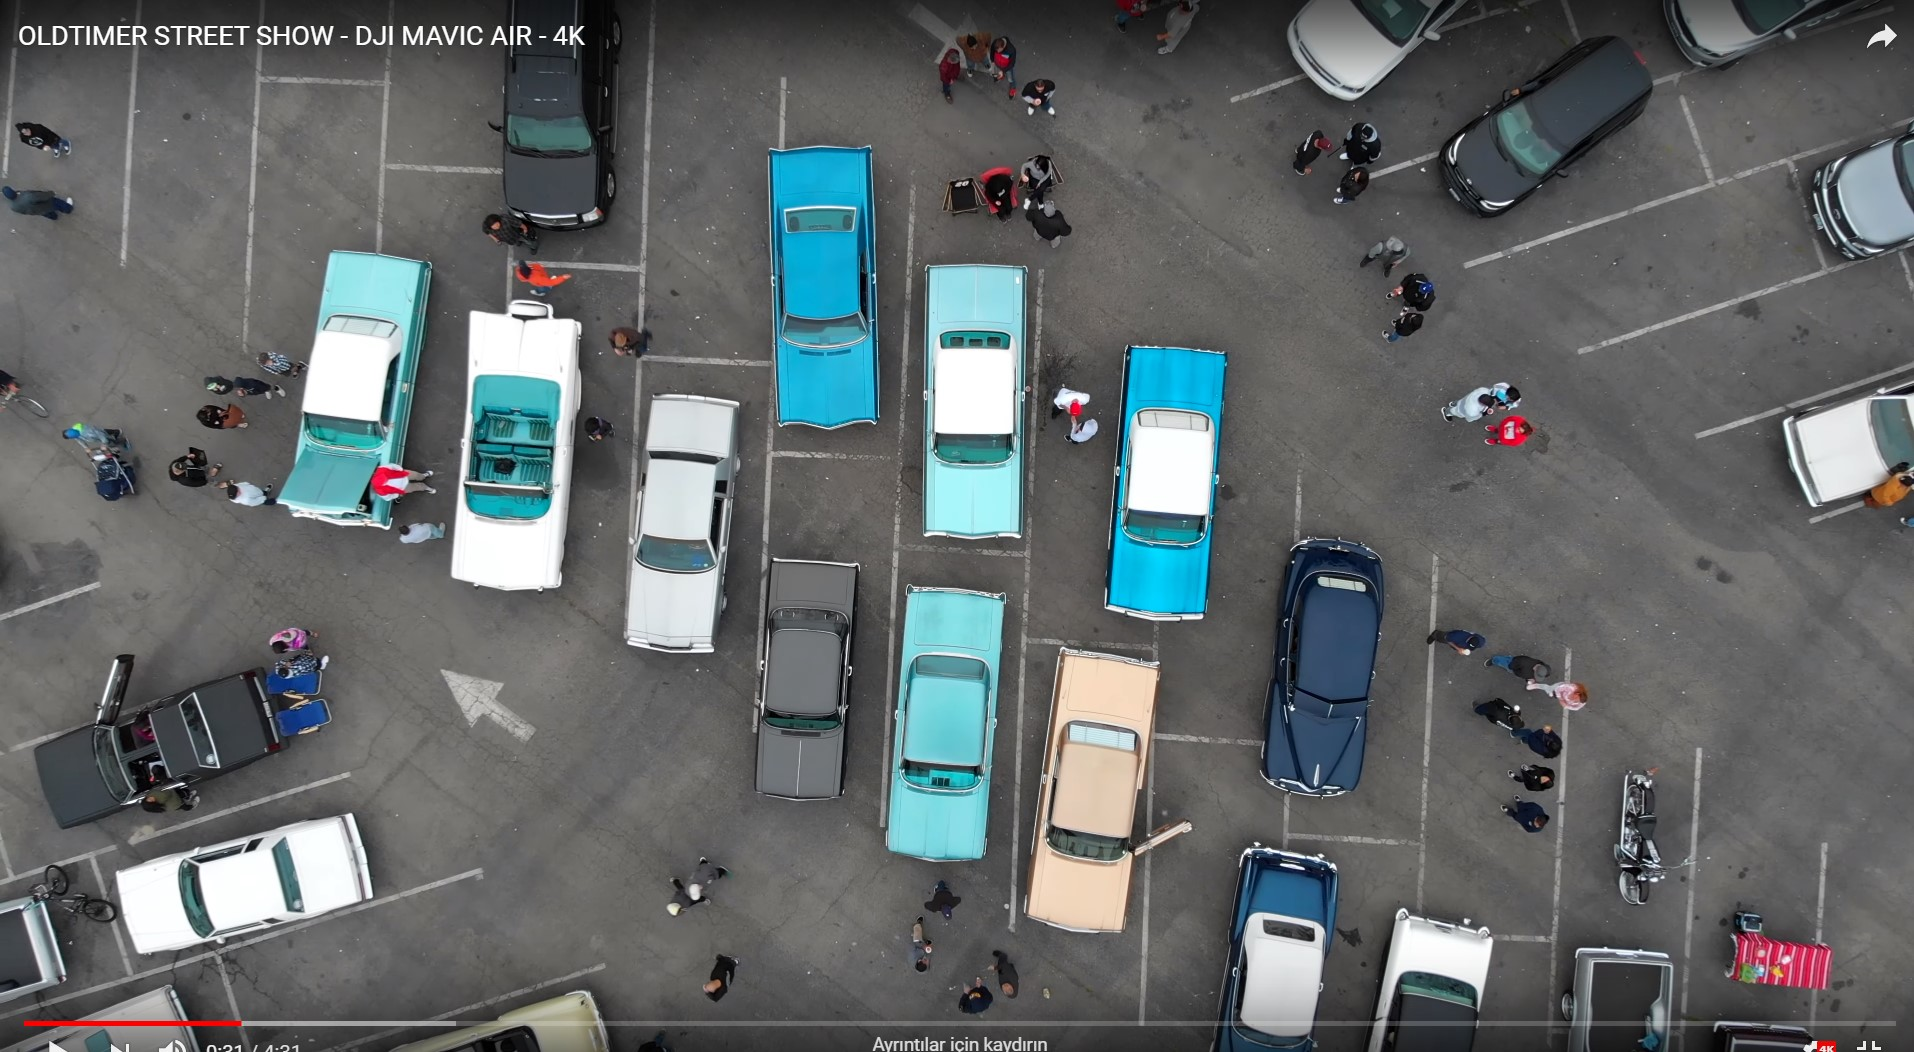araba: (1022, 641, 1167, 939), (33, 664, 284, 832), (1432, 33, 1657, 216), (112, 808, 386, 956), (449, 309, 586, 595), (1101, 341, 1229, 623), (760, 140, 879, 433), (1255, 532, 1384, 801), (888, 579, 1010, 860), (618, 388, 742, 656), (915, 261, 1029, 541), (750, 557, 864, 801), (1210, 839, 1338, 1052), (500, 1, 618, 230), (1362, 898, 1498, 1052), (1288, 1, 1494, 102), (1781, 363, 1914, 513), (1655, 1, 1905, 77), (1805, 123, 1914, 261), (1559, 941, 1684, 1048), (1021, 154, 1055, 189)
insan: (283, 253, 431, 532), (1, 182, 83, 221), (62, 418, 132, 463), (369, 458, 441, 498), (1151, 1, 1202, 57), (5, 118, 72, 160), (480, 213, 548, 253), (986, 936, 1026, 1003), (1024, 194, 1074, 247), (1869, 463, 1914, 519), (1428, 619, 1491, 660), (684, 846, 725, 905), (1500, 789, 1555, 833), (1531, 674, 1600, 709), (515, 251, 576, 292), (394, 510, 453, 550), (162, 450, 224, 487), (1022, 75, 1069, 125), (222, 475, 286, 510), (1290, 125, 1331, 178), (702, 944, 738, 1003), (190, 399, 250, 434), (1363, 234, 1410, 278), (1441, 388, 1494, 425), (1481, 415, 1538, 450), (257, 347, 311, 381), (655, 874, 697, 919), (936, 47, 967, 105), (1342, 123, 1384, 164), (1388, 270, 1438, 303), (1502, 763, 1559, 792), (198, 367, 253, 396), (607, 326, 655, 360), (235, 374, 286, 405), (1332, 164, 1369, 208), (1387, 306, 1431, 340), (993, 32, 1022, 84), (955, 984, 1001, 1016), (910, 919, 935, 975), (1048, 384, 1091, 416), (931, 879, 962, 923), (1491, 656, 1552, 678), (269, 626, 315, 654), (1064, 412, 1105, 443), (960, 27, 986, 75), (1490, 375, 1526, 406), (581, 413, 612, 446)
